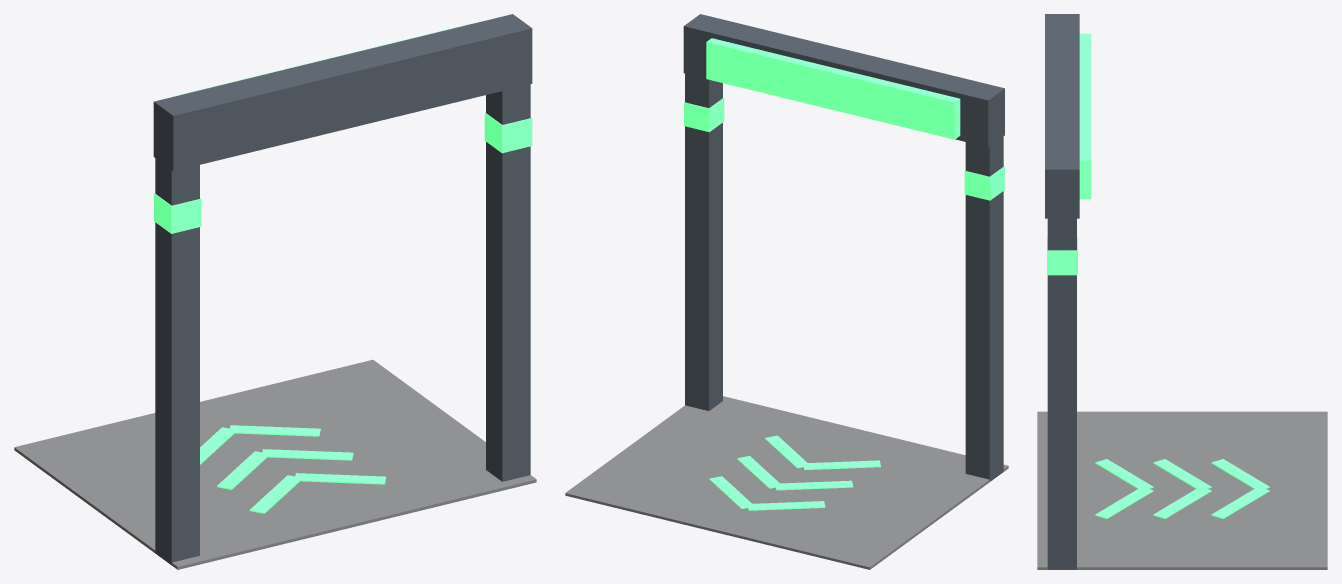
The model's file is SourceStation.fbx.
3 renders of one model, left to right at view 1: azimuth 30°, elevation 25°; view 2: azimuth 150°, elevation 25°; view 3: azimuth 270°, elevation 25°, orthographic. The views are drawn at different scales.
Parts seen in each view (by area): view 1: SourceStation; view 2: SourceStation; view 3: SourceStation.
Part boxes in pixels (<box>): SourceStation: <box>14,14,536,569</box>; SourceStation: <box>565,14,1008,569</box>; SourceStation: <box>1037,14,1327,569</box>.
Bounding box in the file's own units: 1.91 × 2.28 × 1.5.
